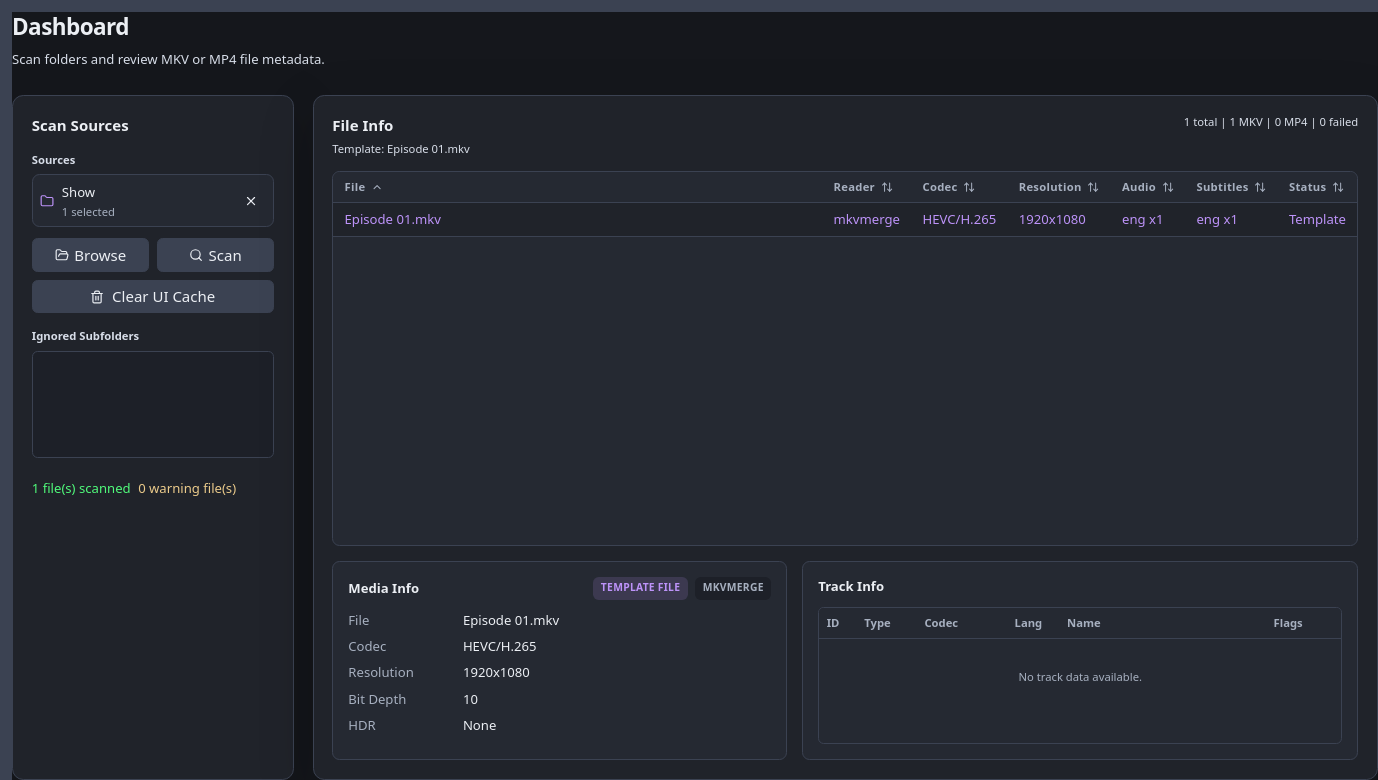
Test case: Dashboard UI cache reset › clears scan state and workflow caches while keeping the chosen sources
The width and height of the screenshot is (1378, 780).
Expected: the row "Episode 01.mkv" is shown, [333, 202, 1357, 237]
What coordinates should you click on to do the following:
click the button "Clear UI Cache"
I would click on:
 (153, 297)
Its box is [32, 280, 274, 314].
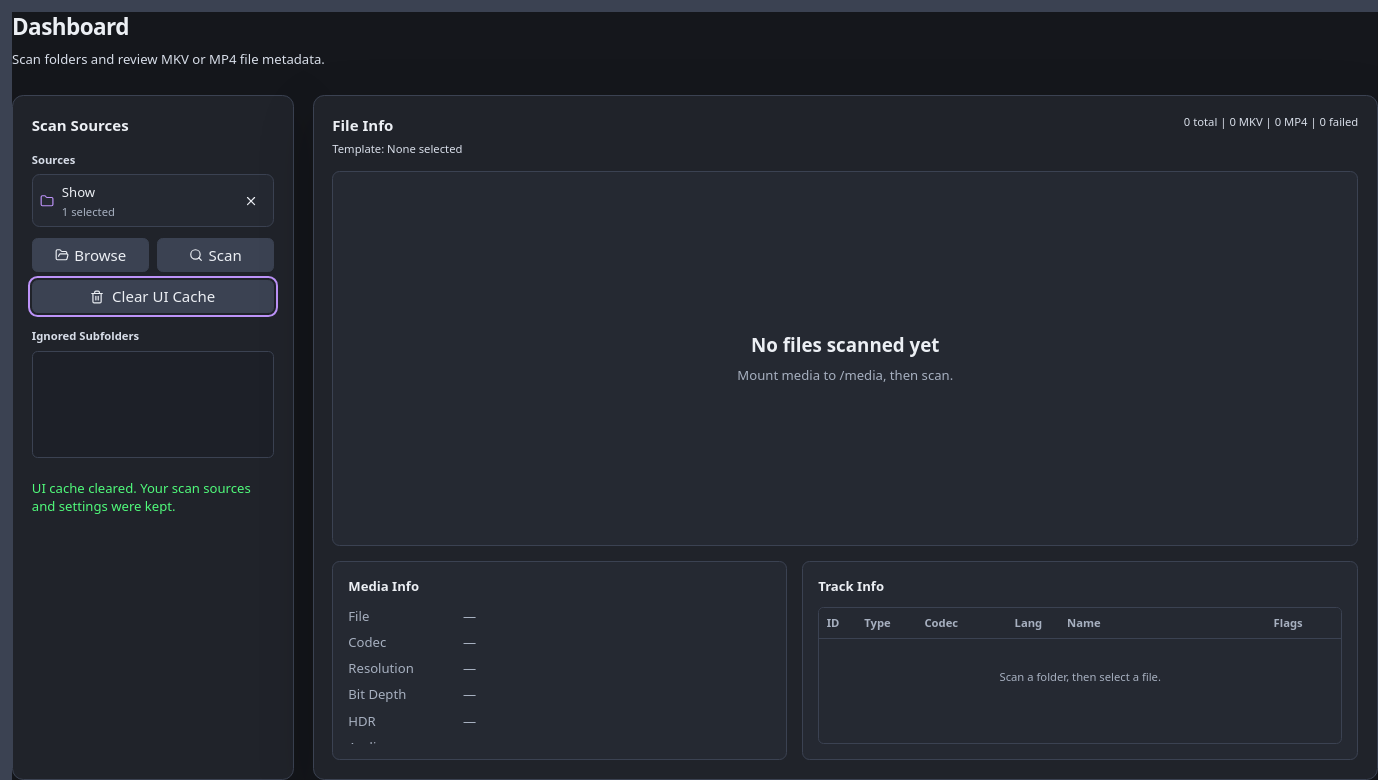
Expected: the text "Show" is shown, [62, 183, 95, 201]
Expected: the text "Episode 01.mkv" is gone
Expected: the text "UI cache cleared. Your scan sources and settings were kept." is shown, [32, 479, 274, 516]
